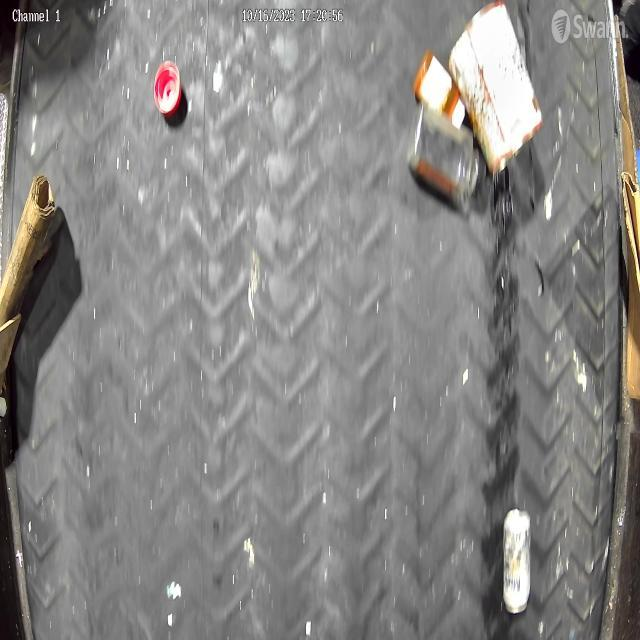can: (451, 5, 550, 181), (498, 502, 536, 627)
